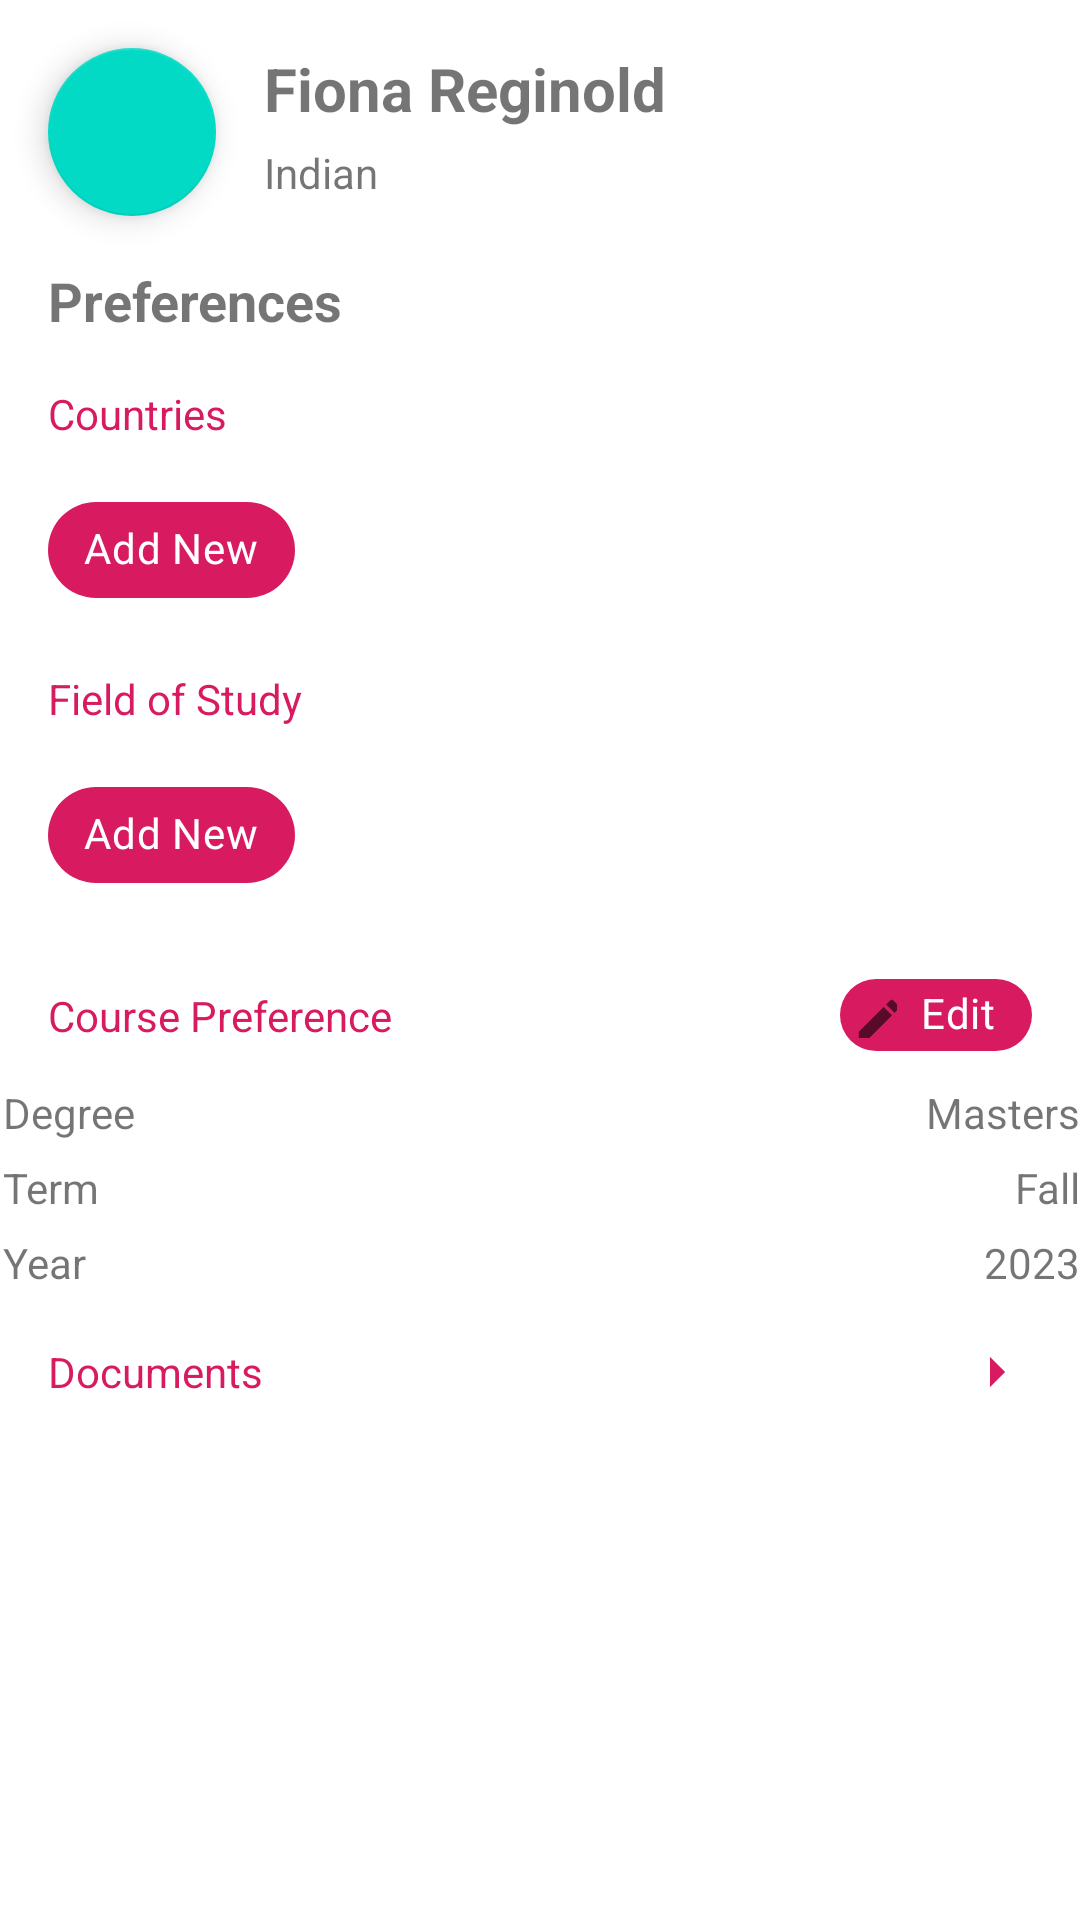

Where icons sit on this 1080×1920 app screen, as (x1, y1, x2, y2):
arrow right: (990, 1357, 1005, 1387)
